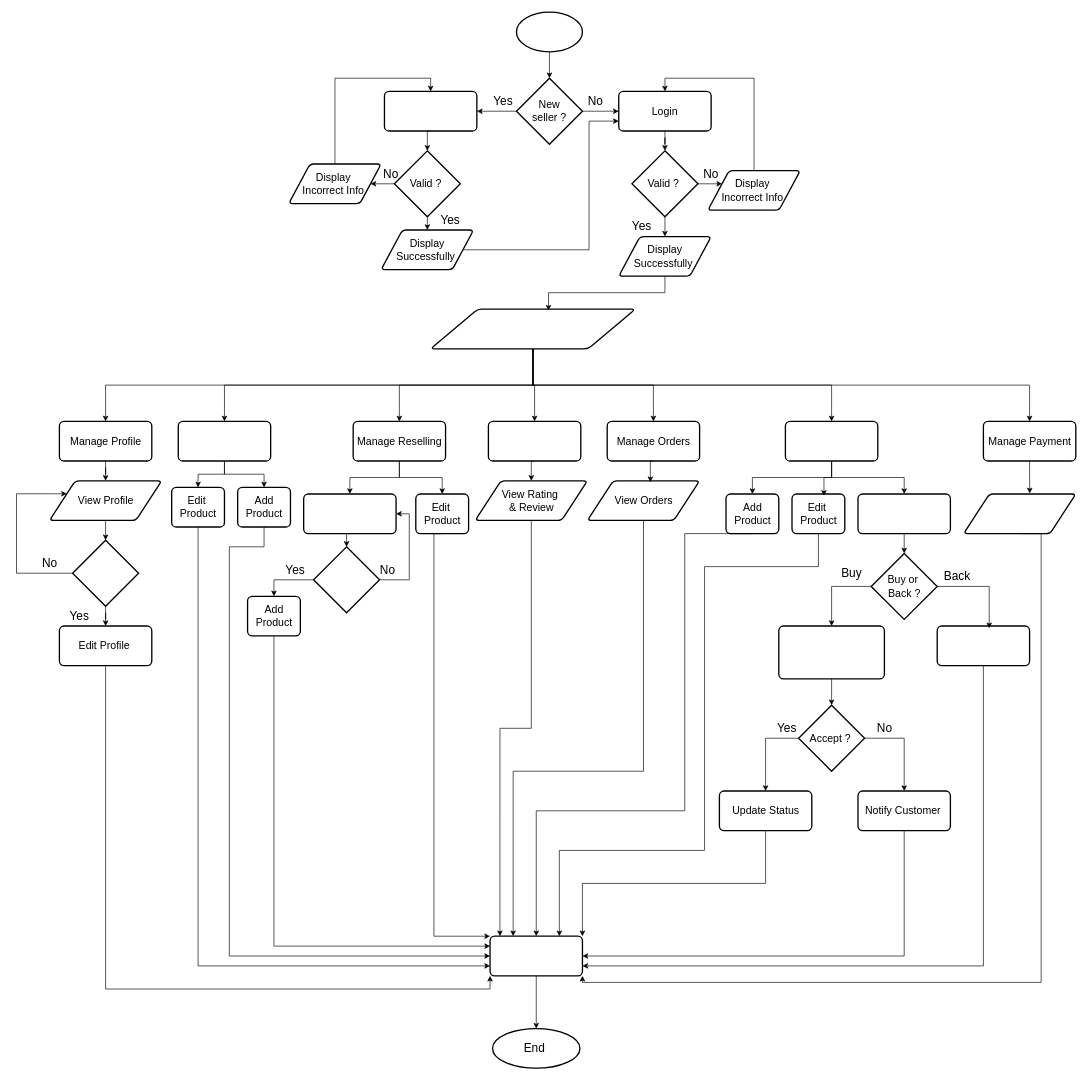
Image size: 1088x1080. Some labels were removed from this diagram. The box of each missing label's shape, as (x1, y1, x2, y2) in pixels:
Approve ?: (313, 546, 380, 613)
Display Seller Dashboard: (430, 308, 636, 349)
Give Customization Detailes To Designer: (778, 625, 885, 679)
Logout: (489, 935, 583, 976)
Manage Buy Back: (784, 420, 878, 461)
Manage Buy Back Request: (857, 493, 951, 534)
Manage Product: (177, 420, 271, 461)
Manage Rating & Review: (487, 420, 581, 461)
Register: (383, 90, 477, 131)
Request For Adding Product: (303, 493, 396, 534)
Send Back Request To Admin: (936, 625, 1030, 666)
Start: (515, 11, 583, 52)
View Payment Detailes: (963, 493, 1076, 534)
Wants To Edit ?: (72, 539, 139, 607)
